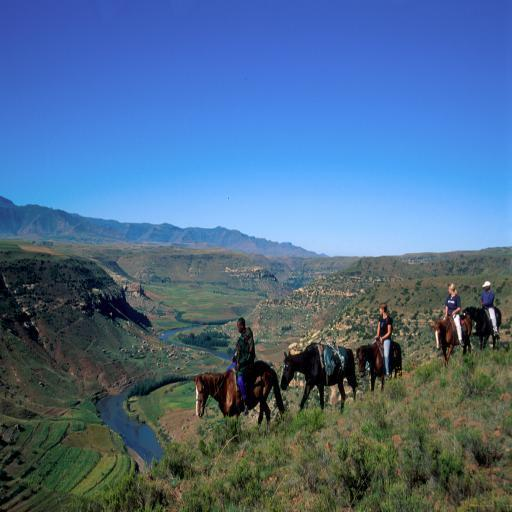horse: (190, 360, 285, 444), (281, 341, 360, 413), (356, 340, 404, 394), (431, 312, 473, 368), (464, 304, 502, 350)
